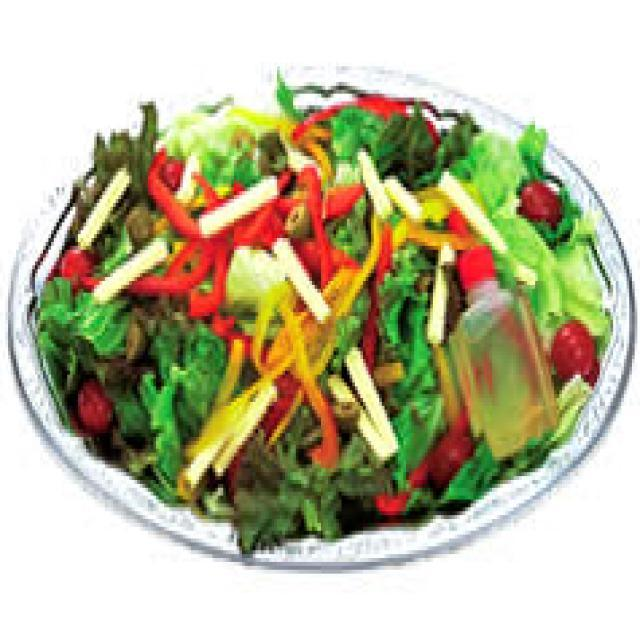Green Salad: (50, 105, 614, 517)
